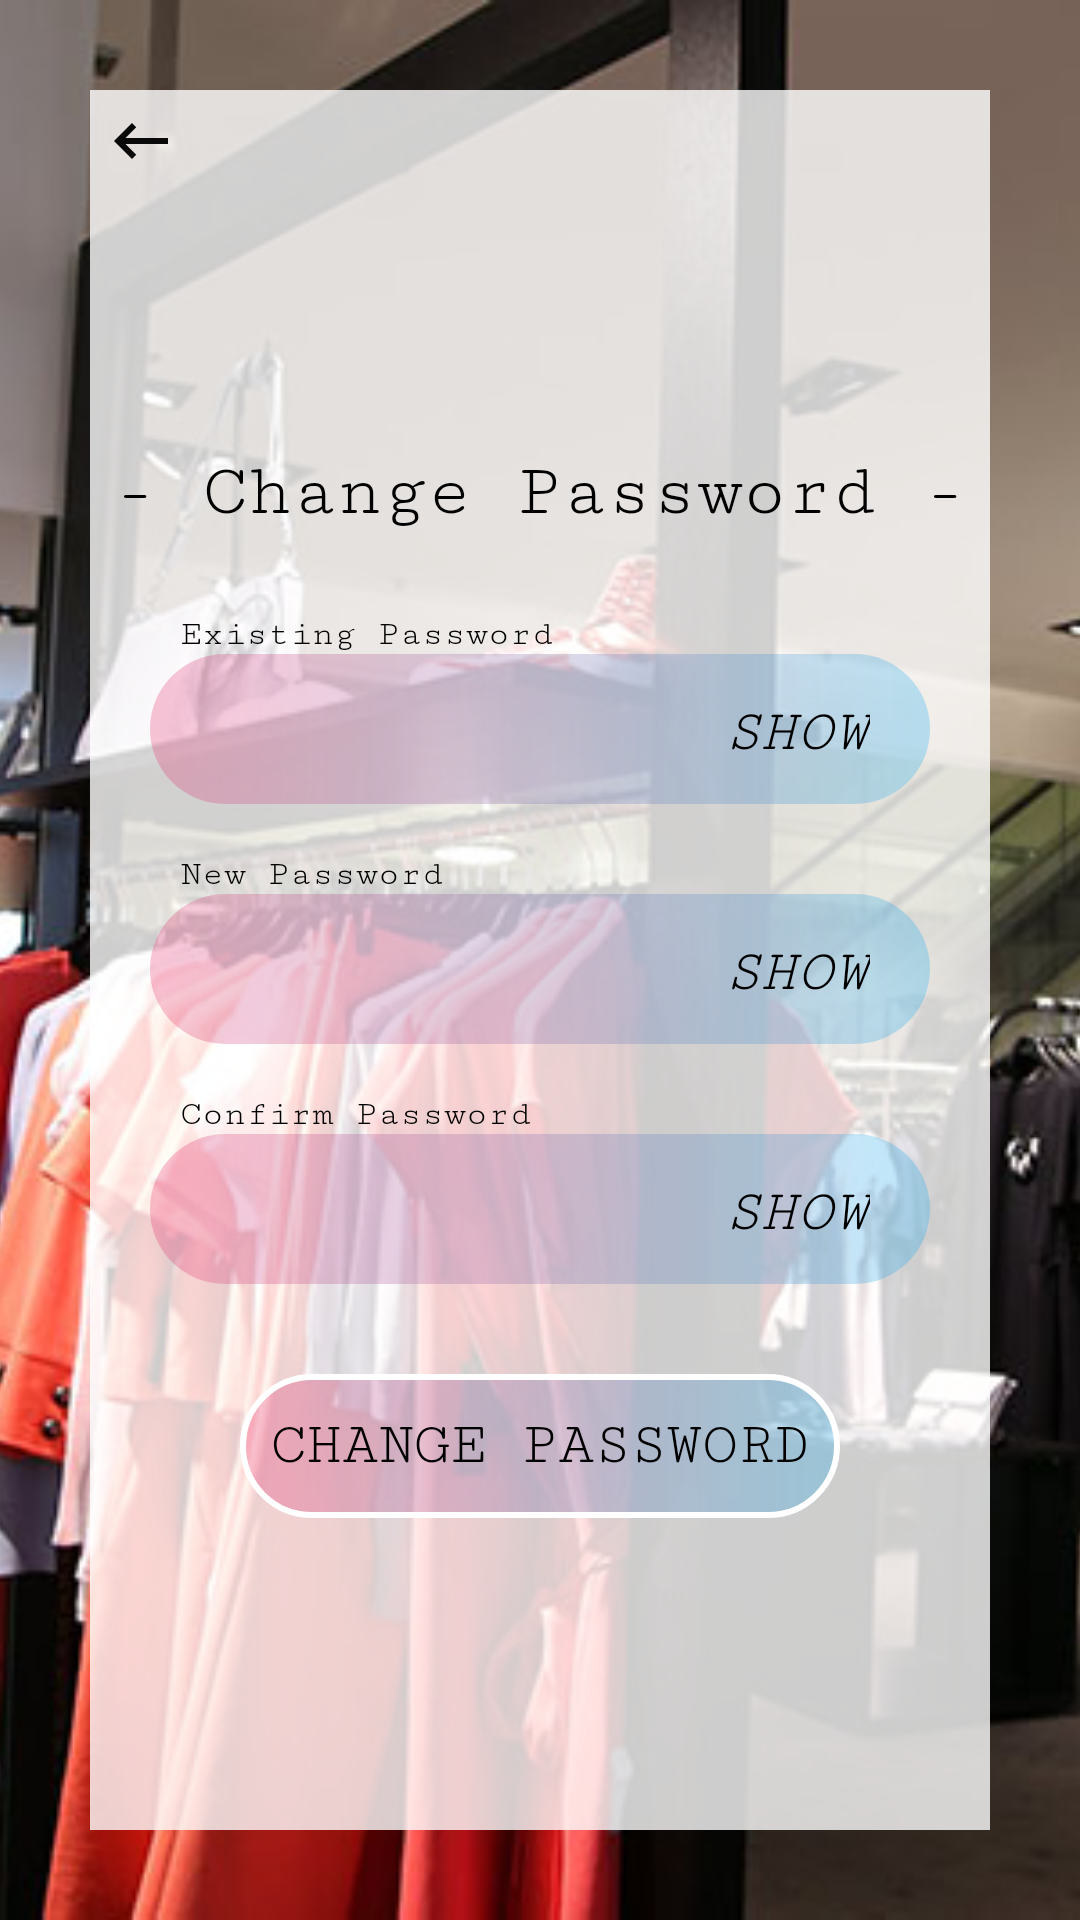

Where icons sit on this 1080px x 1920px app screen, as rect(x1, y1, x2, y2):
back arrow: rect(114, 123, 168, 159)
